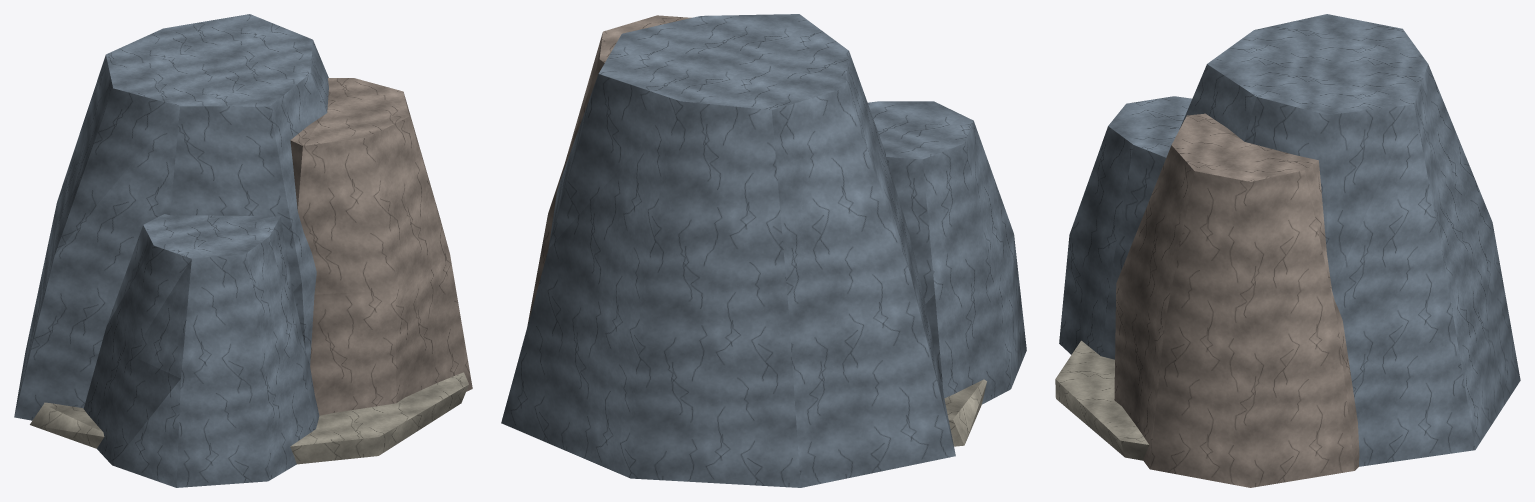
File: side_wall_buttress.glb
3 renders of one model, left to right at view 1: azimuth 30°, elevation 25°; view 2: azimuth 150°, elevation 25°; view 3: azimuth 270°, elevation 25°, orthographic. The views are drawn at different scales.
Visible parts, largest first — view 1: DL015_SideWallButtress_stone_blue, DL015_SideWallButtress_stone_warm, DL015_SideWallButtress_sediment; view 2: DL015_SideWallButtress_stone_blue, DL015_SideWallButtress_stone_warm, DL015_SideWallButtress_sediment; view 3: DL015_SideWallButtress_stone_blue, DL015_SideWallButtress_stone_warm, DL015_SideWallButtress_sediment.
Part boxes in pixels (x1,y1,x2,y2): DL015_SideWallButtress_stone_blue: [14, 14, 328, 487]; DL015_SideWallButtress_stone_warm: [290, 78, 472, 415]; DL015_SideWallButtress_sediment: [30, 372, 468, 464]; DL015_SideWallButtress_stone_blue: [501, 14, 1026, 487]; DL015_SideWallButtress_stone_warm: [527, 15, 691, 324]; DL015_SideWallButtress_sediment: [944, 379, 986, 446]; DL015_SideWallButtress_stone_blue: [1059, 14, 1520, 466]; DL015_SideWallButtress_stone_warm: [1114, 113, 1359, 487]; DL015_SideWallButtress_sediment: [1055, 340, 1148, 460].
Size of the model in its own units: 4.5 by 3.3 by 4.26.
3 materials, 3 textured.
